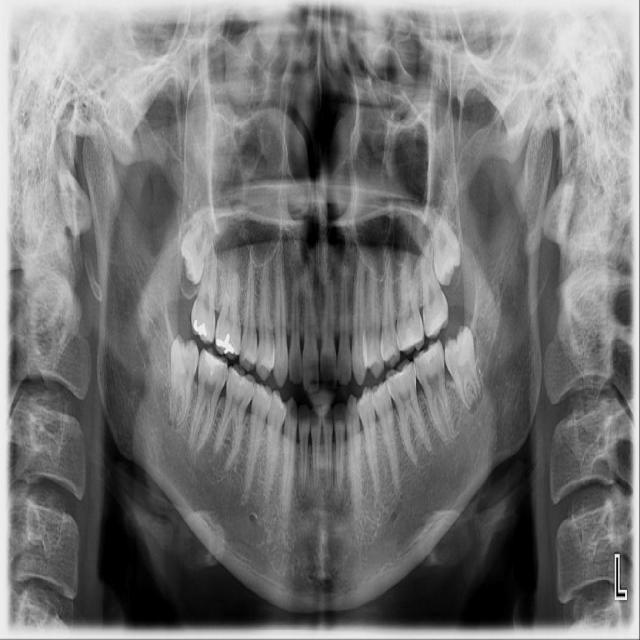Filling: (201, 351, 228, 375), (416, 343, 441, 366), (216, 331, 236, 354), (192, 319, 210, 337)
impacted tooth: (411, 204, 460, 287), (445, 326, 483, 413), (181, 209, 218, 282), (169, 338, 198, 428)
